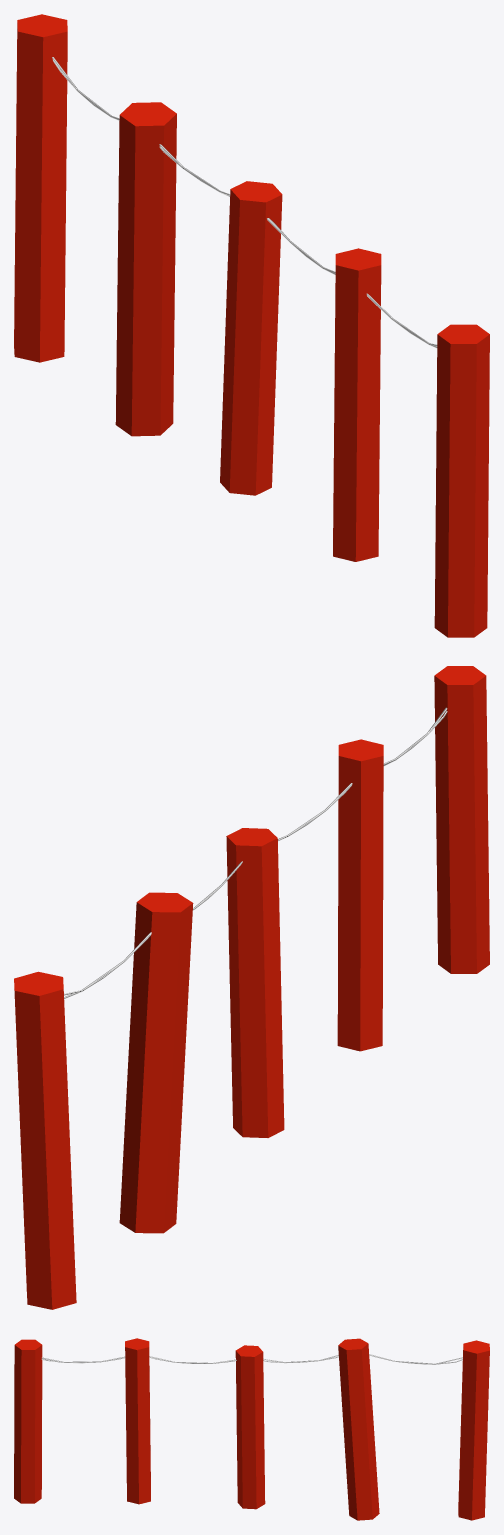
The model's file is si_res_clutter_clothes.dae.
3 renders of one model, top to bottom at view 1: azimuth 30°, elevation 25°; view 2: azimuth 150°, elevation 25°; view 3: azimuth 270°, elevation 25°, orthographic. The views are drawn at different scales.
Parts seen in each view (by area): view 1: Colmesh-1, si_res_clutter_clothes_a120; view 2: Colmesh-1, si_res_clutter_clothes_a120; view 3: Colmesh-1, si_res_clutter_clothes_a120, si_res_clutter_clothes_a500.
Boxes of the visible parts, x1=… form: Colmesh-1: x1=14, y1=14, x2=489, y2=637; si_res_clutter_clothes_a120: x1=52, y1=57, x2=437, y2=346; Colmesh-1: x1=14, y1=666, x2=489, y2=1309; si_res_clutter_clothes_a120: x1=64, y1=707, x2=447, y2=995; Colmesh-1: x1=14, y1=1338, x2=489, y2=1520; si_res_clutter_clothes_a120: x1=41, y1=1354, x2=462, y2=1364; si_res_clutter_clothes_a500: x1=41, y1=1355, x2=462, y2=1364.
Size of the model in its own units: 0.6395 by 8.56 by 3.39.
